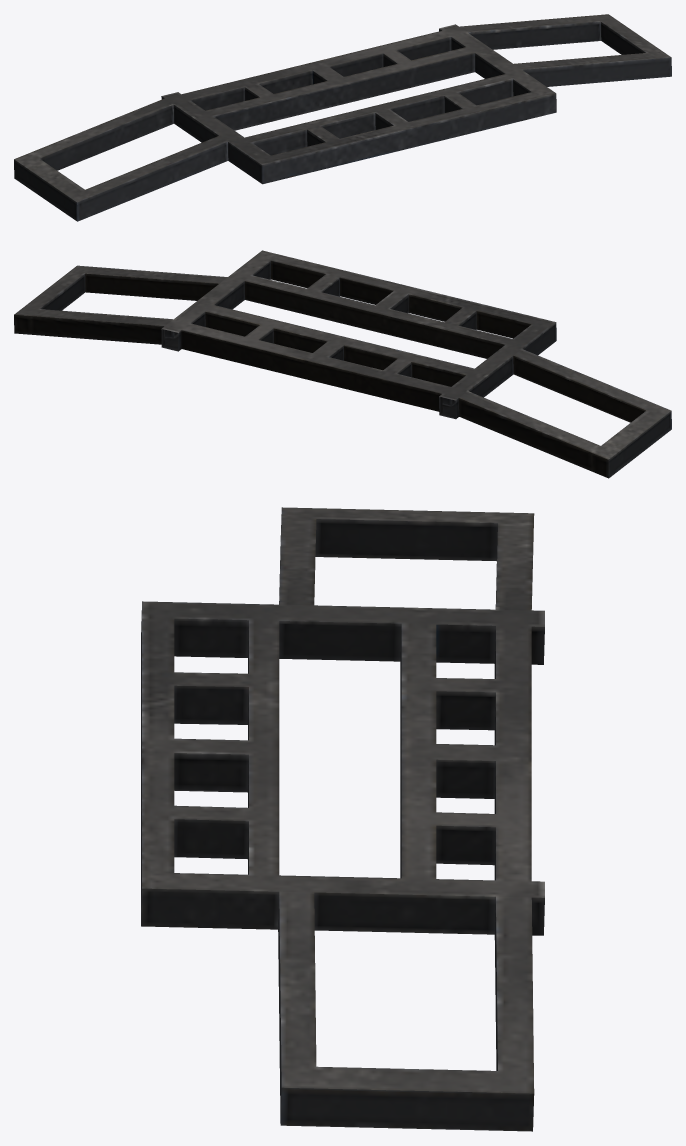
File: F700Bullbar_WorldItem.fbx
The picture shows the model from 3 angles, top to bottom: view 1: azimuth 30°, elevation 25°; view 2: azimuth 150°, elevation 25°; view 3: azimuth 270°, elevation 25°; orthographic projection. The views are drawn at different scales.
Parts seen in each view (by area): view 1: Bullbar_obj_Cube.001; view 2: Bullbar_obj_Cube.001; view 3: Bullbar_obj_Cube.001.
Part boxes in pixels (x1=…): Bullbar_obj_Cube.001: x1=14, y1=14, x2=671, y2=221; Bullbar_obj_Cube.001: x1=14, y1=250, x2=671, y2=478; Bullbar_obj_Cube.001: x1=141, y1=507, x2=544, y2=1131.
Size of the model in its own units: 3.46 by 0.2682 by 1.02.
